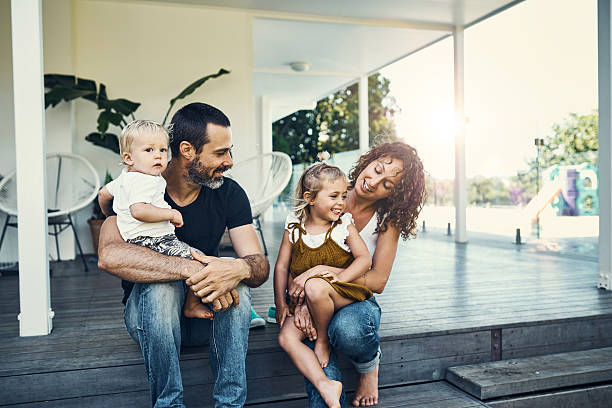without mask: (176, 102, 240, 194), (302, 162, 352, 237), (353, 154, 404, 214), (124, 121, 170, 178)
